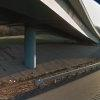Bridge: (17, 2, 100, 73)
